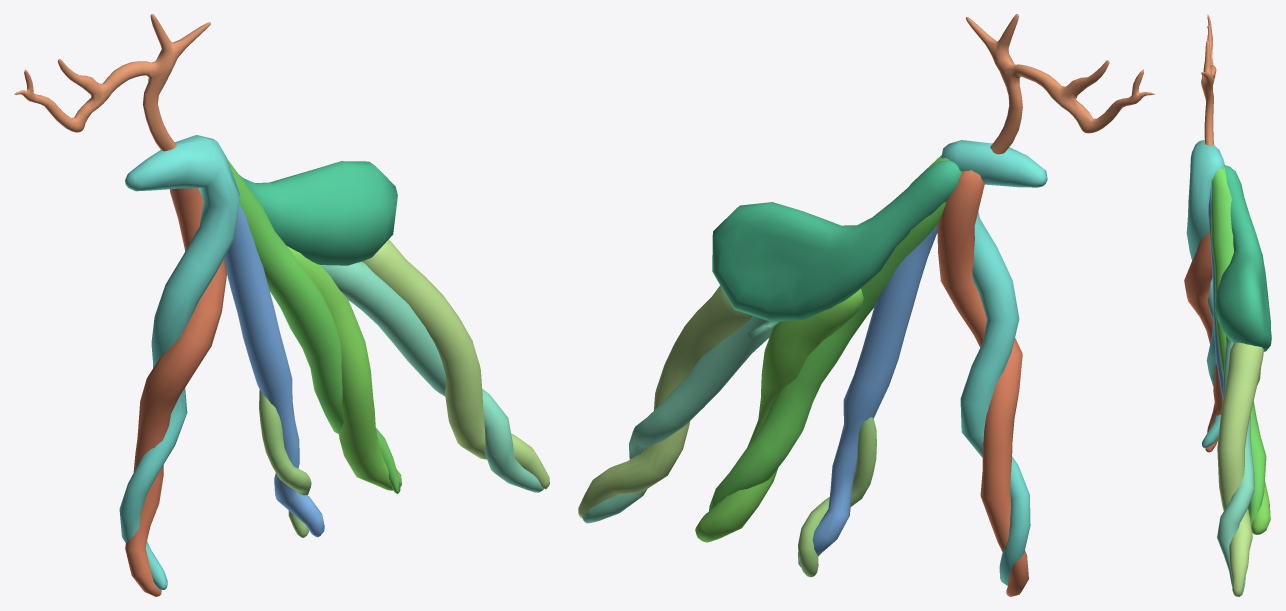
File: steer1.fbx
3 views of the same model, side by side, from view 1: azimuth 30°, elevation 25°; view 2: azimuth 150°, elevation 25°; view 3: azimuth 270°, elevation 25° (orthographic). The views are drawn at different scales.
Visible parts, largest first — view 1: deer; view 2: deer; view 3: deer.
Boxes of the visible parts, x1,y1,x2,y2 form: deer: [14, 14, 549, 596]; deer: [578, 14, 1155, 596]; deer: [1184, 14, 1271, 596].
Size of the model in its own units: 273 by 279 by 53.17.
